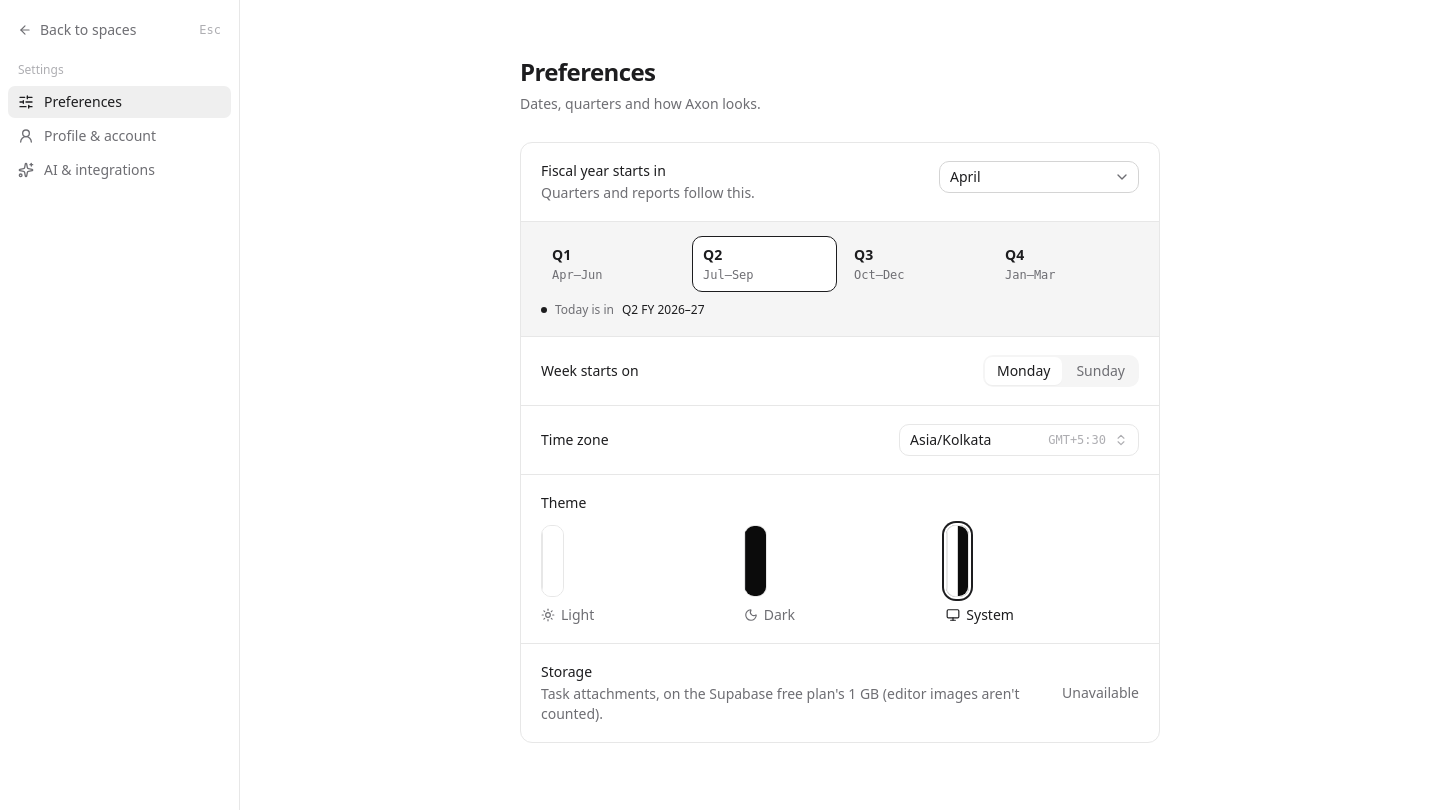
it: SettingsPage › updates the quarter preview live and saves the fiscal year start month
Expected: the text "Q2 FY 2026–27" is shown, left=622, top=302, right=705, bottom=318
Expected: the text "Apr–Jun" is shown, left=552, top=268, right=603, bottom=282
Click the dropdown named "fiscal year starts in" at (1039, 177), box left=939, top=161, right=1139, bottom=193
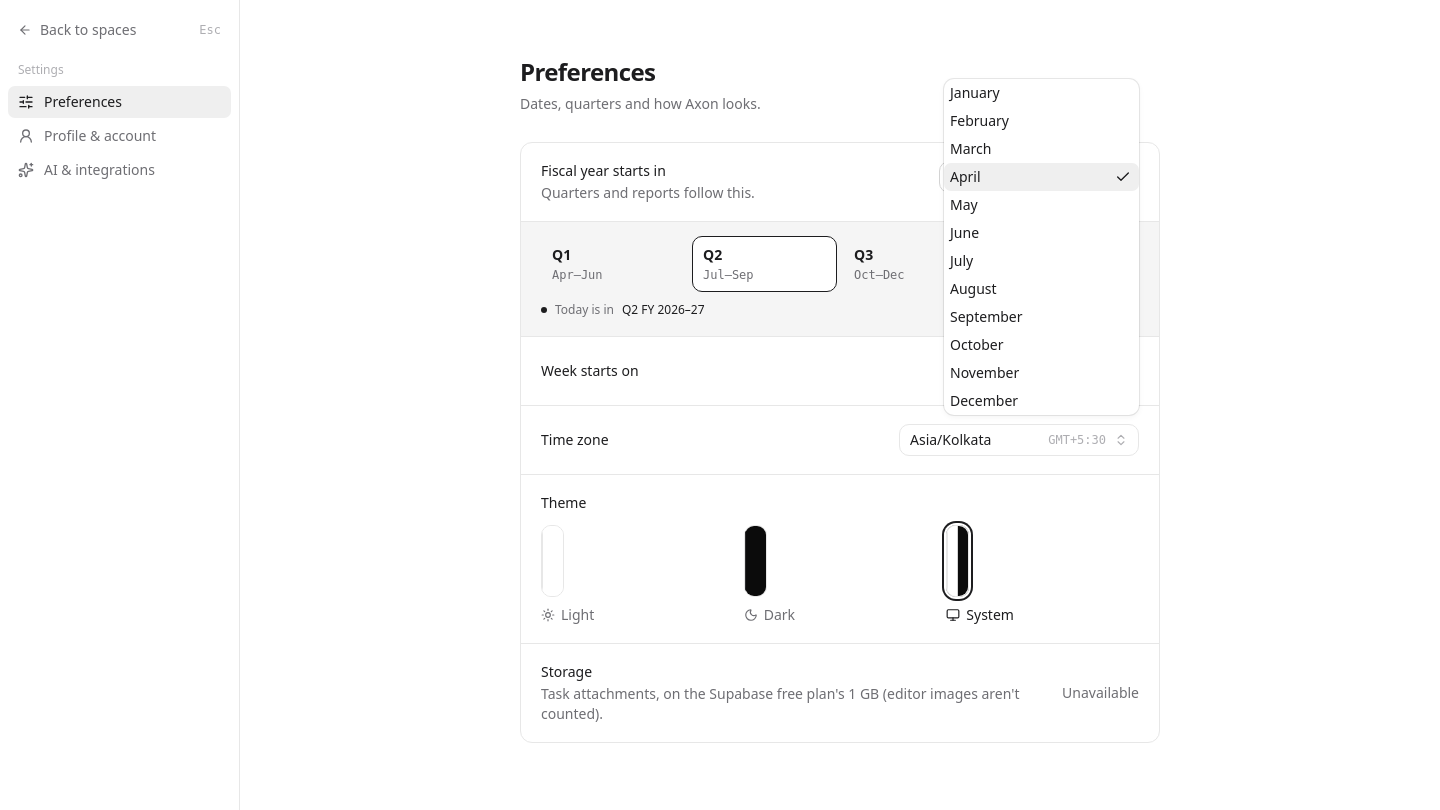
Click the option "January" at (975, 92), box left=950, top=83, right=1000, bottom=102
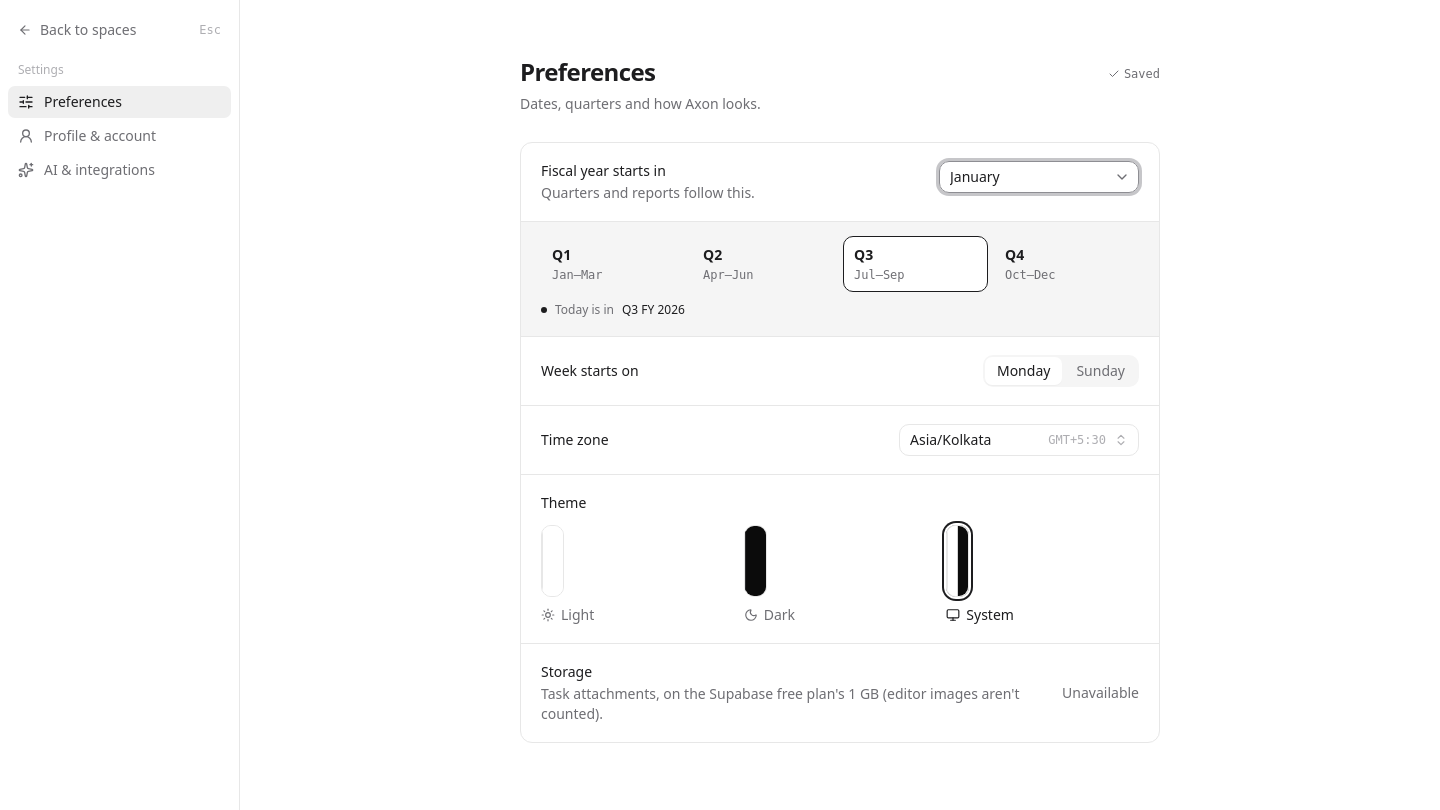
Now the text "Q3 FY 2026" is shown, box left=622, top=302, right=685, bottom=318
Now the text "Jan–Mar" is shown, box left=552, top=268, right=603, bottom=282
Now the text "Saved" is shown, box left=1108, top=66, right=1160, bottom=82
